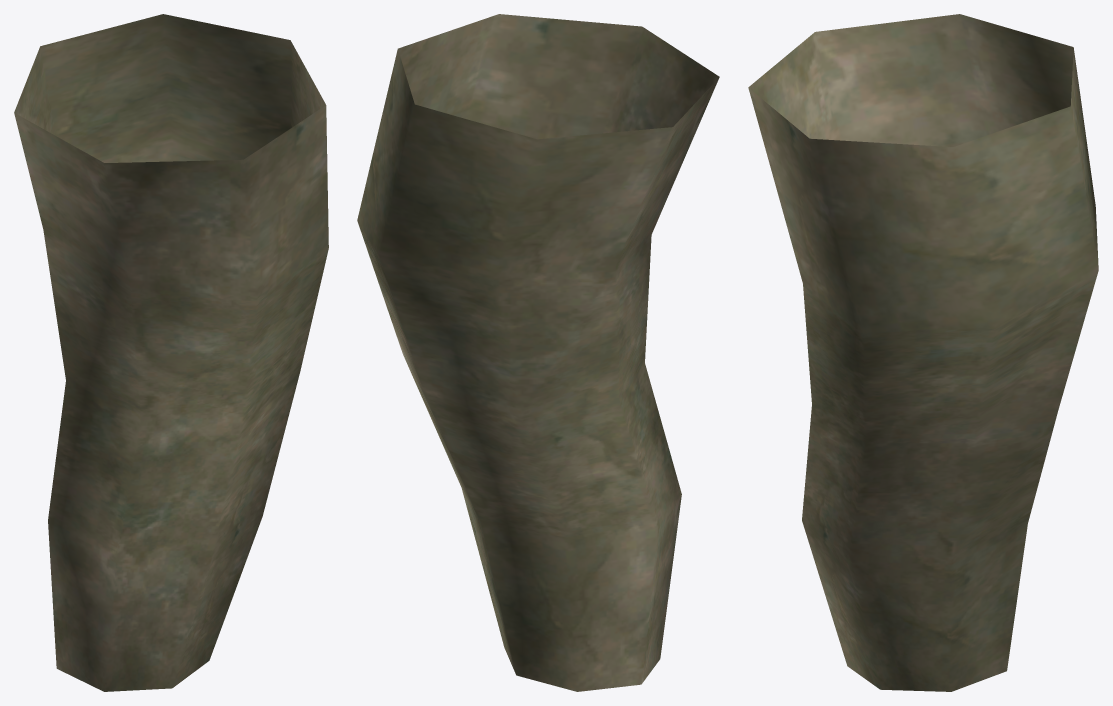
The model's file is EKH_GROTTO_PS_GR_OBJECT99.fbx.
3 views of the same model, side by side, from view 1: azimuth 30°, elevation 25°; view 2: azimuth 150°, elevation 25°; view 3: azimuth 270°, elevation 25° (orthographic). The views are drawn at different scales.
Parts seen in each view (by area): view 1: EKH_GROTTO_PS_GR_OBJECT99; view 2: EKH_GROTTO_PS_GR_OBJECT99; view 3: EKH_GROTTO_PS_GR_OBJECT99.
Boxes of the visible parts, x1,y1,x2,y2 form: EKH_GROTTO_PS_GR_OBJECT99: (14, 14, 328, 691); EKH_GROTTO_PS_GR_OBJECT99: (357, 14, 719, 691); EKH_GROTTO_PS_GR_OBJECT99: (748, 14, 1098, 691).
Bounding box in the file's own units: 26126 × 48903 × 25447.
1 material, 1 textured.
